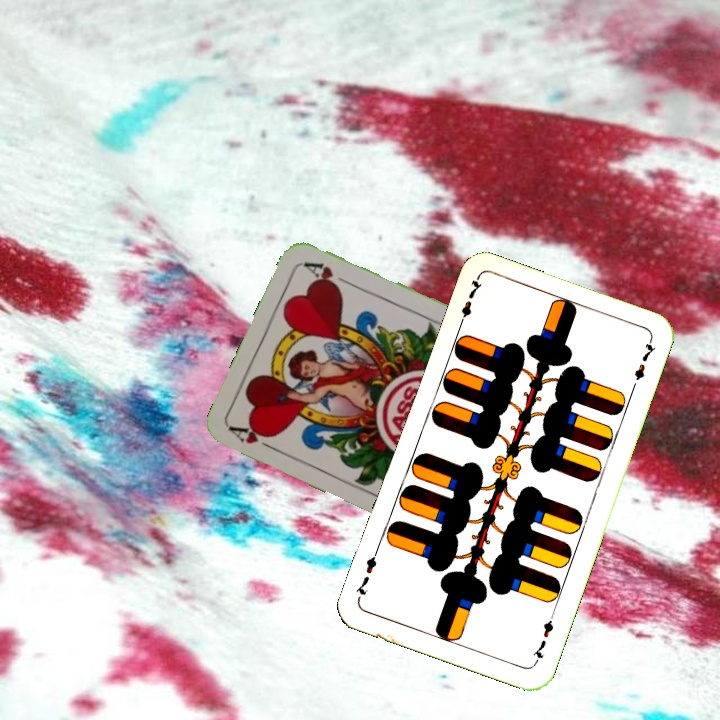E7: (454, 275, 485, 331), (528, 609, 557, 667)
HA: (227, 422, 284, 456)
